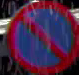No Stopping: (6, 0, 78, 74)
